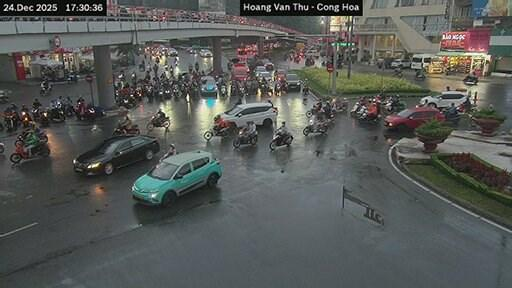motorbike: (9, 143, 50, 162), (268, 130, 293, 148), (303, 118, 326, 135), (202, 126, 231, 139), (234, 130, 256, 147), (357, 108, 380, 124), (112, 122, 138, 135), (441, 108, 460, 124), (147, 117, 169, 130), (384, 99, 405, 112), (348, 100, 364, 117), (86, 103, 105, 117), (74, 108, 95, 120), (13, 130, 28, 145), (3, 113, 16, 130), (159, 148, 176, 161), (118, 95, 135, 108), (48, 108, 64, 121), (38, 109, 48, 126), (333, 99, 346, 111), (35, 130, 48, 142), (21, 111, 31, 126), (38, 84, 51, 95), (61, 103, 71, 115), (304, 108, 316, 117), (463, 76, 476, 84), (67, 72, 76, 82), (220, 85, 227, 97), (413, 73, 425, 80), (445, 68, 454, 75), (301, 84, 307, 94), (393, 71, 402, 76), (0, 143, 3, 153)
